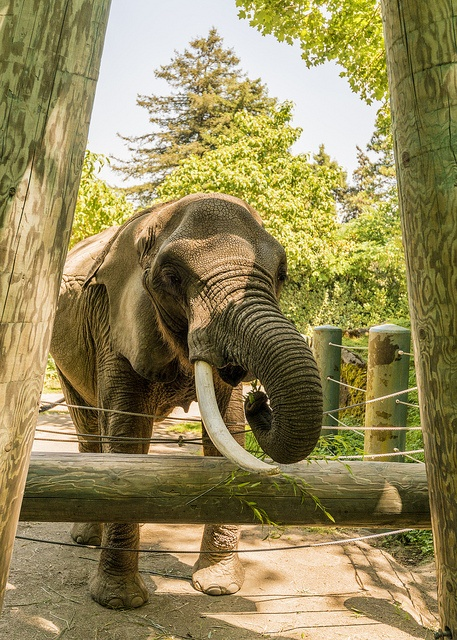elephant: (42, 193, 324, 611)
